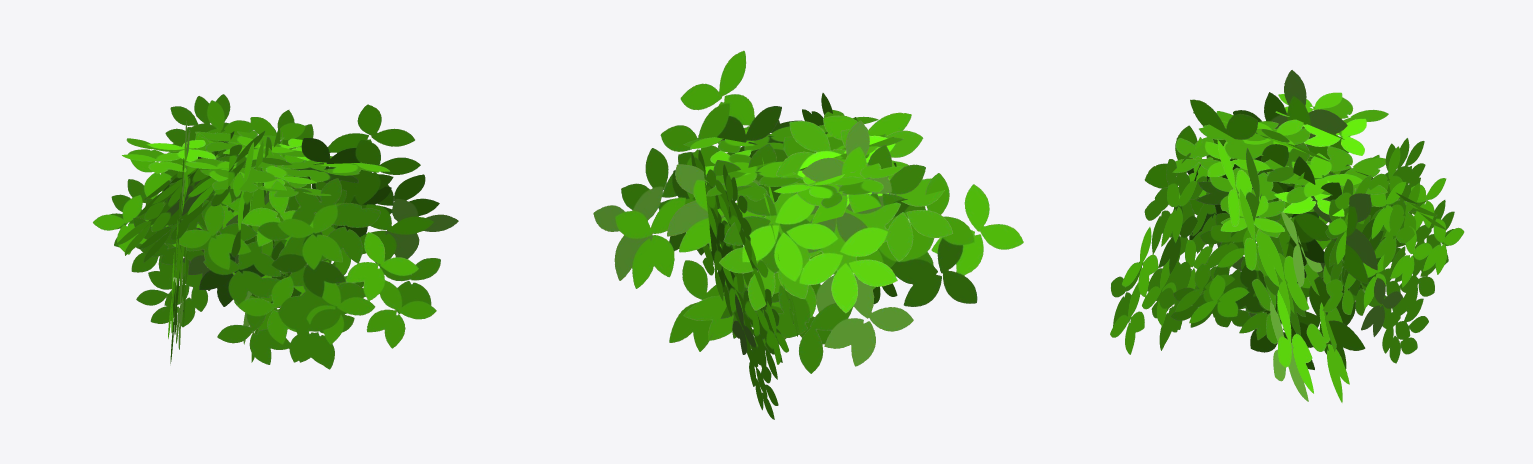
Rendered from SmallTree4.fbx.
3 views of the same model, side by side, from view 1: azimuth 30°, elevation 25°; view 2: azimuth 150°, elevation 25°; view 3: azimuth 270°, elevation 25° (orthographic). The views are drawn at different scales.
Parts seen in each view (by area): view 1: SmallTree4; view 2: SmallTree4; view 3: SmallTree4.
Boxes of the visible parts, bbox=[...] form: SmallTree4: bbox=[93, 94, 458, 369]; SmallTree4: bbox=[593, 50, 1023, 419]; SmallTree4: bbox=[1110, 70, 1464, 402].
Size of the model in its own units: 167 by 131 by 139.
